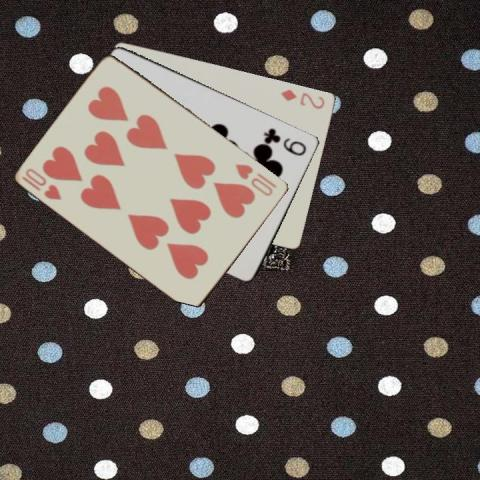10h: (232, 161, 279, 198), (19, 165, 64, 202)
2d: (278, 86, 327, 111)
9c: (261, 125, 309, 156)
